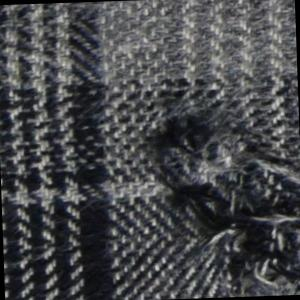Damage: (139, 75, 300, 300)
